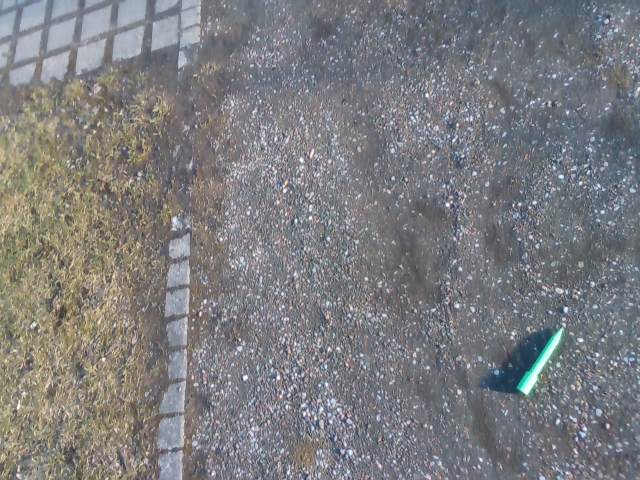Probe: (513, 322, 565, 401)
